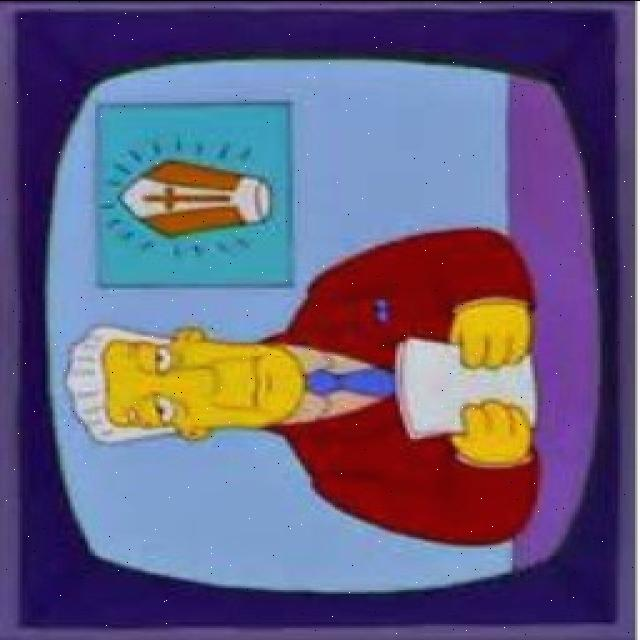Kent Brockman: (61, 322, 309, 448)
